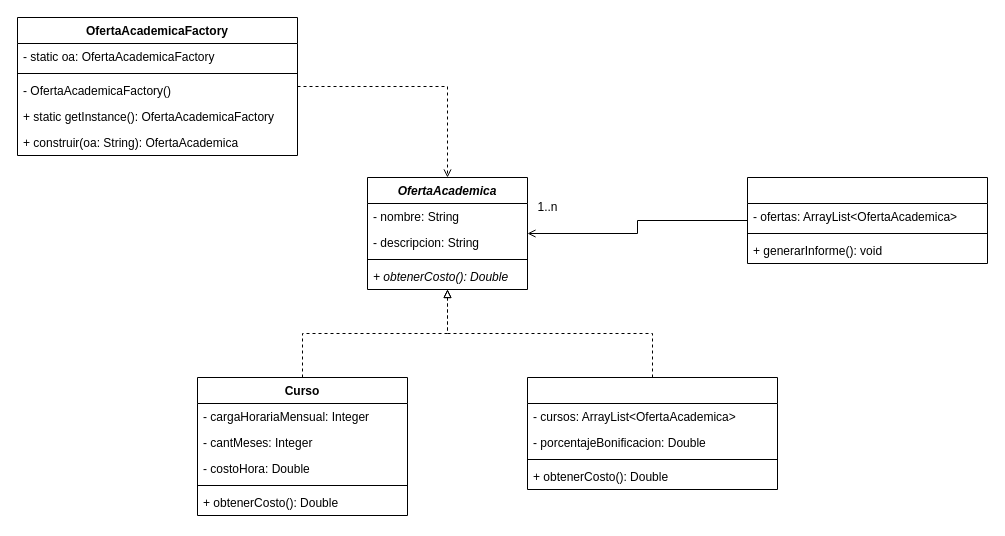
The diagram is 1005 pixels wide and 536 high, and some of its shapes have lost their labels. The shapes that lost their labels are listed below. From the top down, each one's box as (x1, y1, x2, y2) in pixels, then its label:
(746, 176, 988, 264): Instituto
(526, 376, 778, 490): Programa
